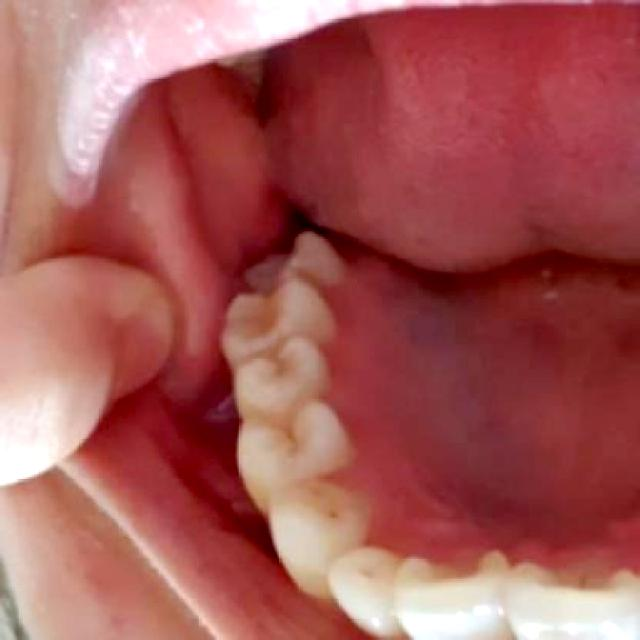Plaque: (354, 561, 385, 590), (276, 424, 303, 454), (318, 504, 342, 519)
